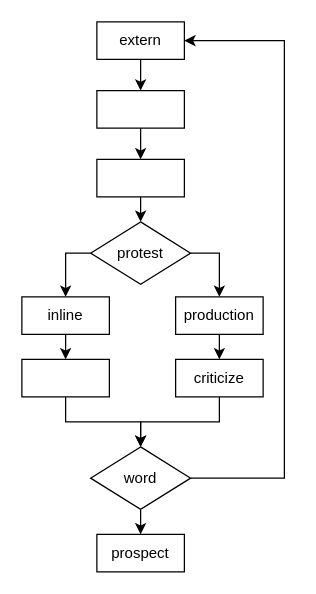
The diagram is 316 pixels wide and 594 high, and some of its shapes have lost their labels. The shapes that lost their labels are listed below. From the top down, each one's centre as x and y in pixels, then its label:
At point 140,108: "principle".
At point 140,177: "procedure".
At point 65,377: "knowledge".
